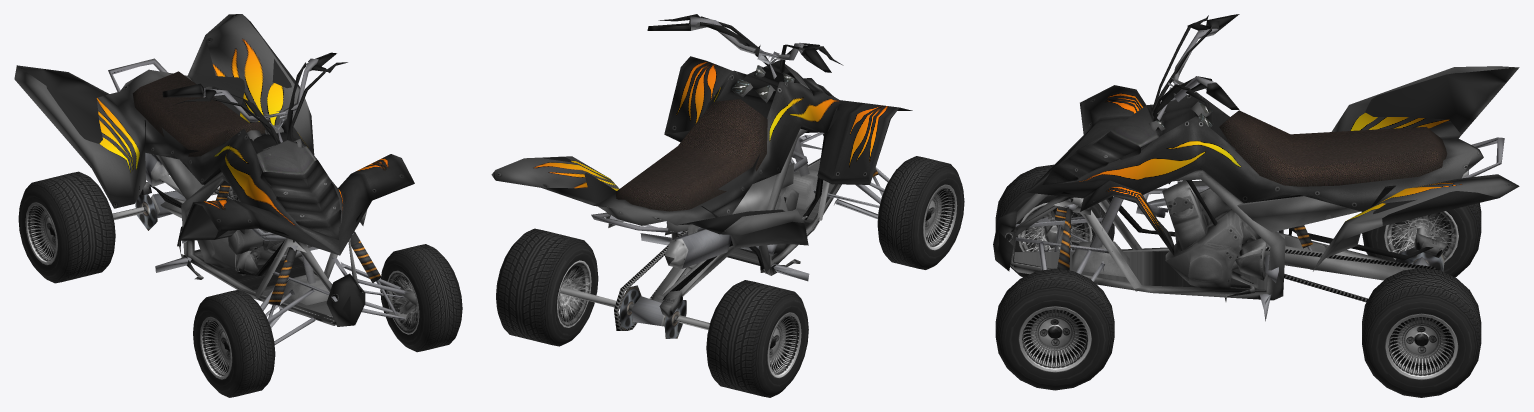
The model's file is low poly quad.fbx.
3 renders of one model, left to right at view 1: azimuth 30°, elevation 25°; view 2: azimuth 150°, elevation 25°; view 3: azimuth 270°, elevation 25°, orthographic. The views are drawn at different scales.
Visible parts, largest first — view 1: polySurface104, Quard bike_3RBTyre, Quard bike_3RFTyre, Quard bike_3LFTyre; view 2: polySurface104, Quard bike_3RBTyre, Quard bike_3RLByre, Quard bike_3RFTyre; view 3: polySurface104, Quard bike_3RLByre, Quard bike_3LFTyre, Quard bike_3RBTyre, Quard bike_3RFTyre.
Part boxes in pixels (bbox=[...]): polySurface104: bbox=[14, 14, 417, 344]; Quard bike_3RBTyre: bbox=[18, 171, 115, 283]; Quard bike_3RFTyre: bbox=[193, 289, 275, 397]; Quard bike_3LFTyre: bbox=[380, 244, 462, 352]; polySurface104: bbox=[491, 14, 912, 338]; Quard bike_3RBTyre: bbox=[706, 280, 808, 397]; Quard bike_3RLByre: bbox=[496, 228, 598, 346]; Quard bike_3RFTyre: bbox=[877, 156, 964, 269]; polySurface104: bbox=[993, 14, 1519, 321]; Quard bike_3RLByre: bbox=[1362, 268, 1481, 397]; Quard bike_3LFTyre: bbox=[995, 268, 1114, 390]; Quard bike_3RBTyre: bbox=[1362, 203, 1481, 277]; Quard bike_3RFTyre: bbox=[995, 164, 1114, 277].
Size of the model in its own units: 155 by 143 by 244.
